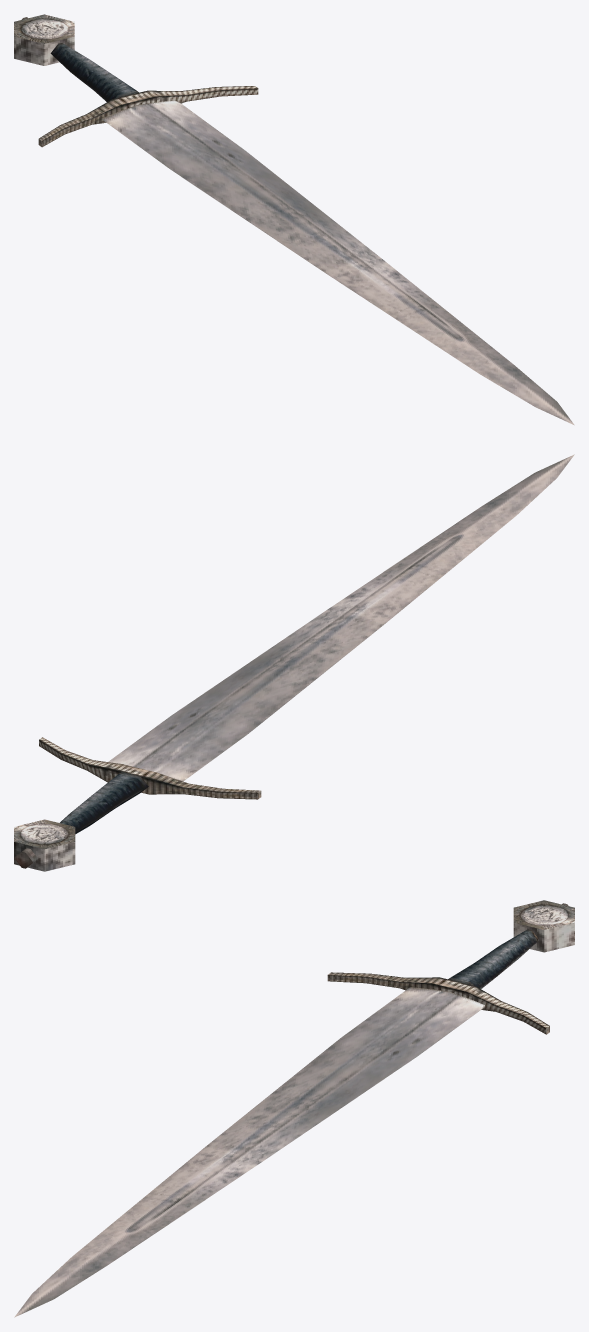
The model's file is ps1-italian-broadsword.glb.
3 views of the same model, one above another, from view 1: azimuth 30°, elevation 25°; view 2: azimuth 150°, elevation 25°; view 3: azimuth 330°, elevation 25° (orthographic).
Visible parts, largest first — view 1: broadsword; view 2: broadsword; view 3: broadsword.
Boxes of the visible parts, box(x1,y1,x2,y2) form: broadsword: box(14, 14, 574, 425); broadsword: box(14, 454, 574, 871); broadsword: box(14, 900, 574, 1317).
Bounding box in the file's own units: 0.3631 × 0.0356 × 1.59.
Materials: 1 (1 with a texture image).
